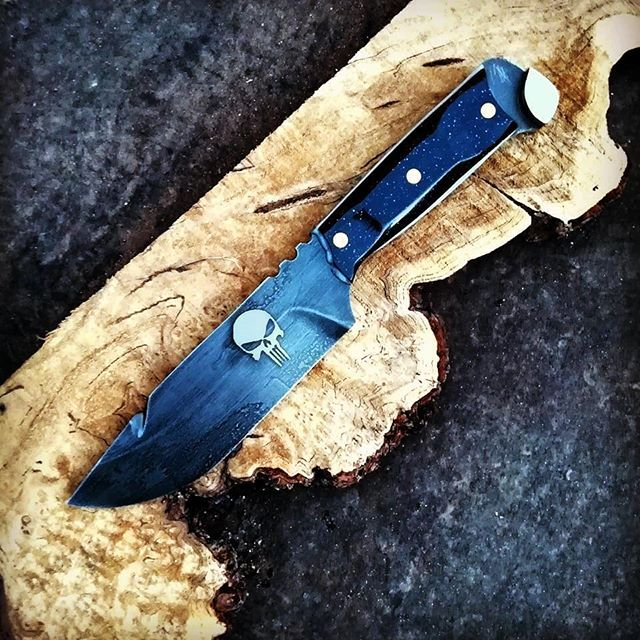knife: (67, 56, 561, 507)
